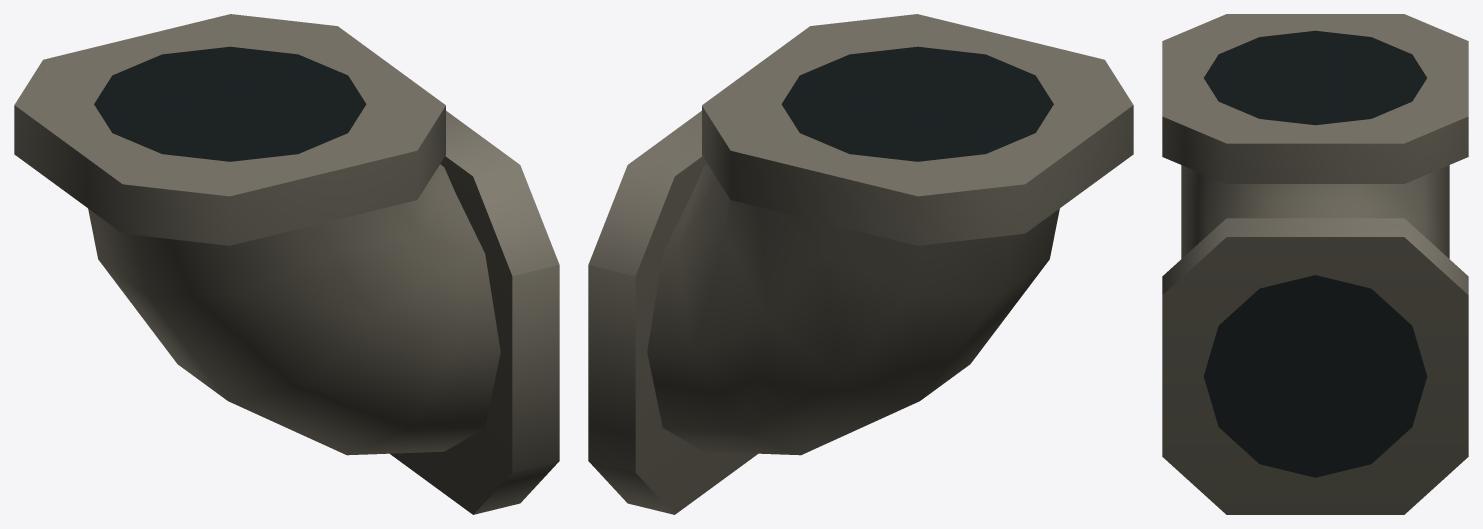
The model's file is Pipe_1F.fbx.
The picture shows the model from 3 angles, left to right: view 1: azimuth 30°, elevation 25°; view 2: azimuth 150°, elevation 25°; view 3: azimuth 270°, elevation 25°; orthographic projection. The views are drawn at different scales.
Visible parts, largest first — view 1: Pipe_1F; view 2: Pipe_1F; view 3: Pipe_1F.
Part boxes in pixels (<box>): Pipe_1F: <box>14,14,559,514</box>; Pipe_1F: <box>588,14,1133,514</box>; Pipe_1F: <box>1162,14,1468,514</box>.
Bounding box in the file's own units: 1.69 × 1.69 × 1.37.
